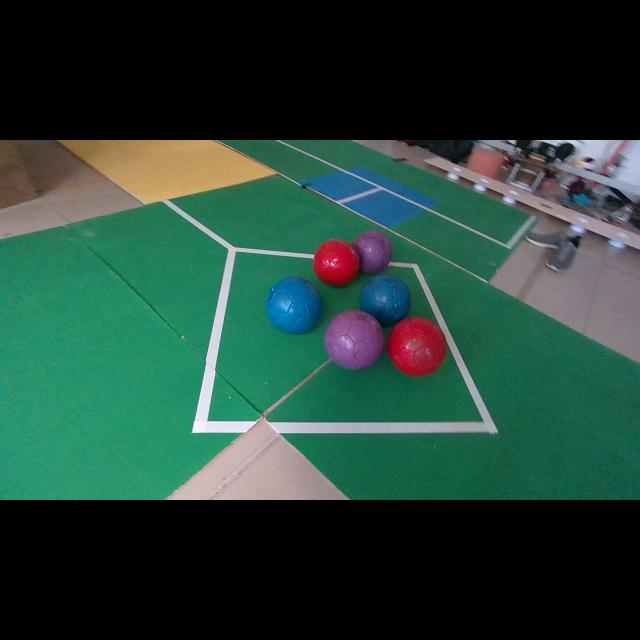B: (265, 278, 321, 334), (360, 275, 411, 326)
P: (324, 310, 385, 369), (354, 230, 392, 274)
R: (388, 318, 448, 376), (314, 239, 360, 286)
